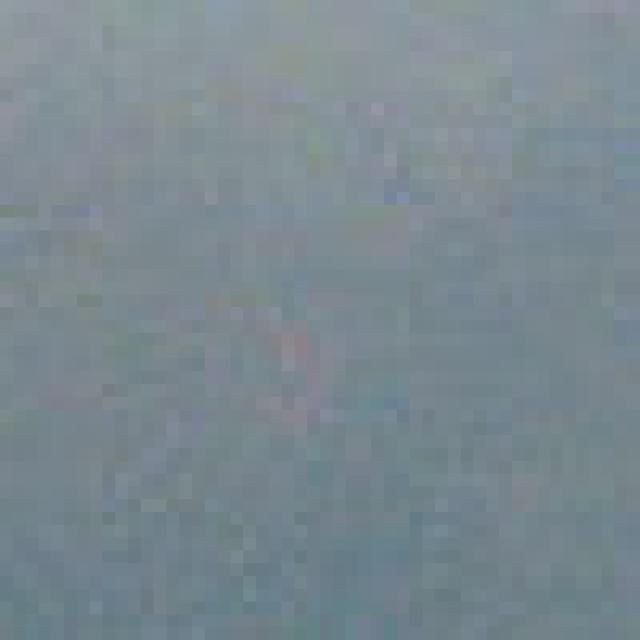no_fire: (1, 24, 628, 616)
